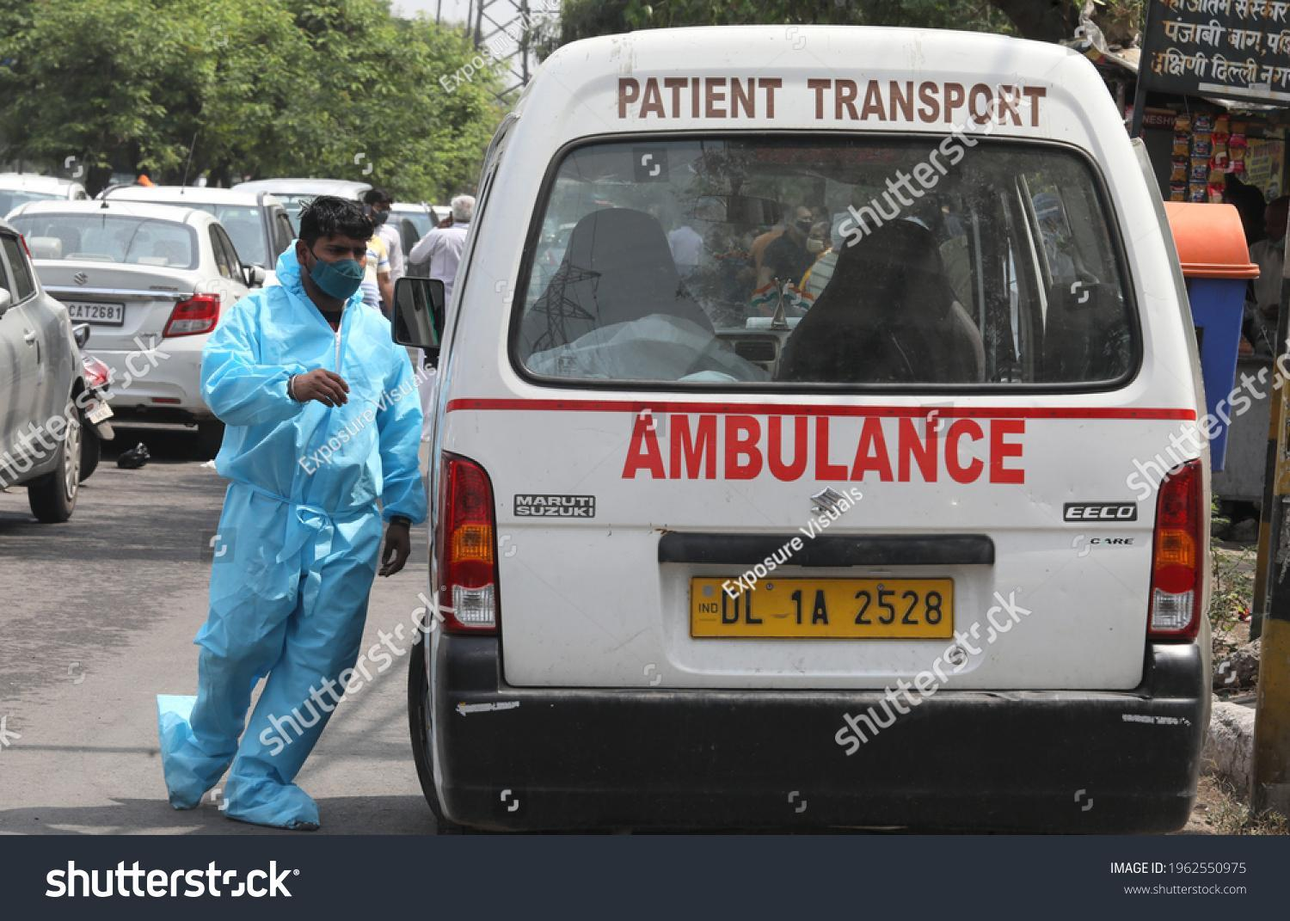Ambulance: (620, 400, 1028, 490)
